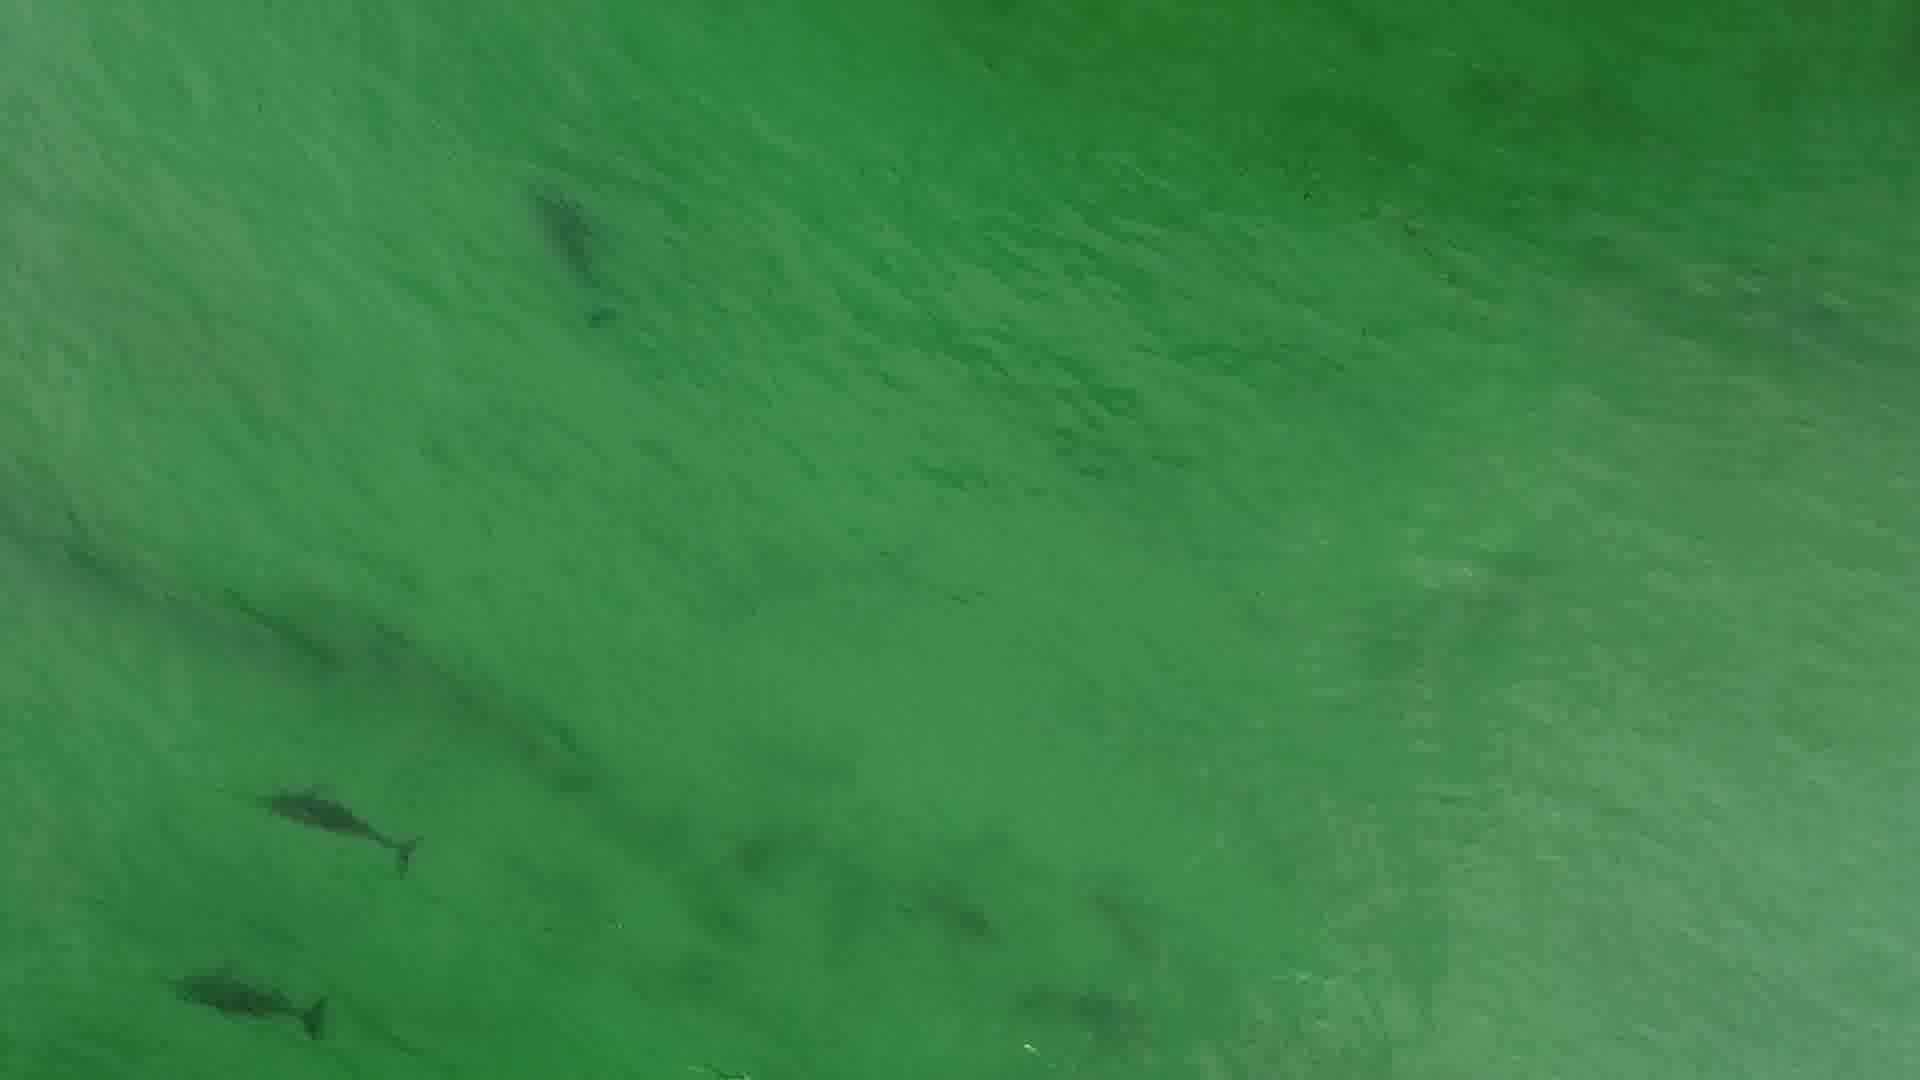dolphin: (231, 754, 435, 881), (152, 928, 339, 1055)
